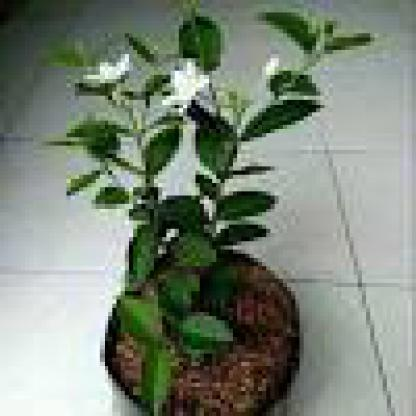Melati: (67, 39, 309, 122)
